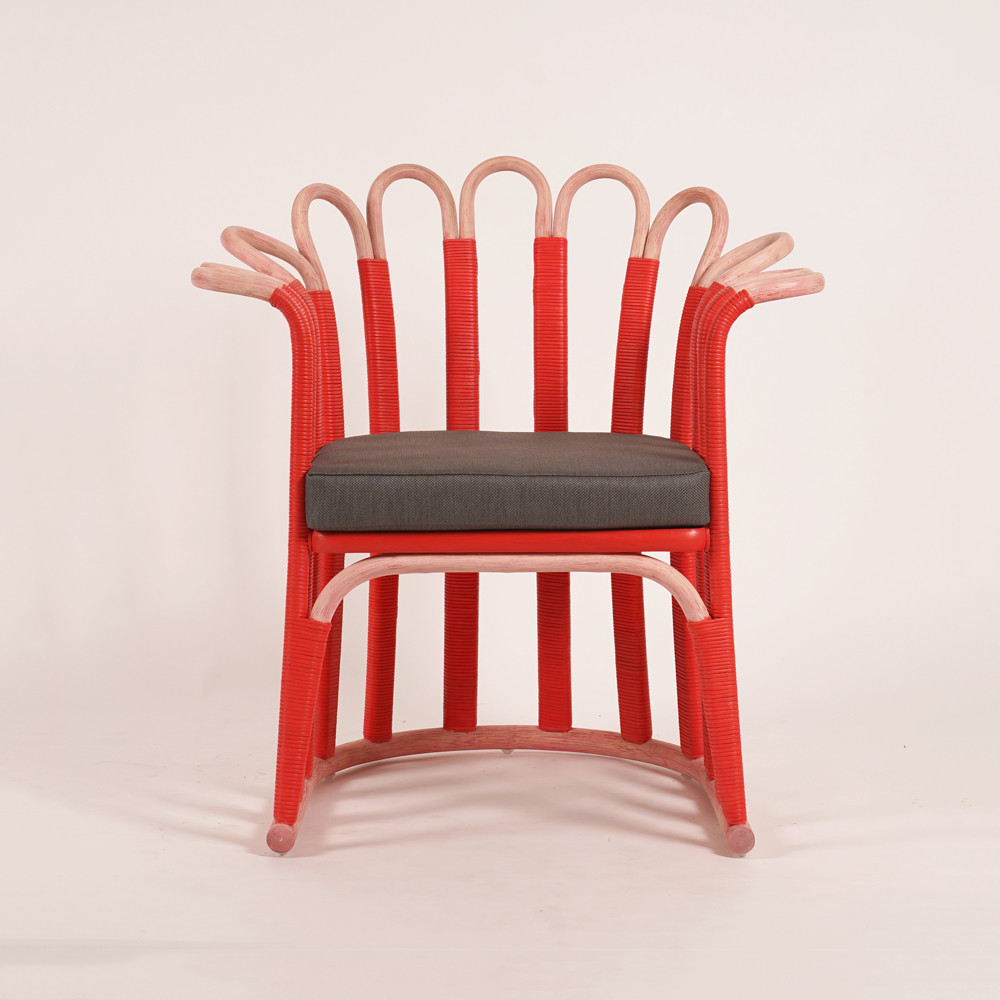kursi: (157, 161, 842, 867)
